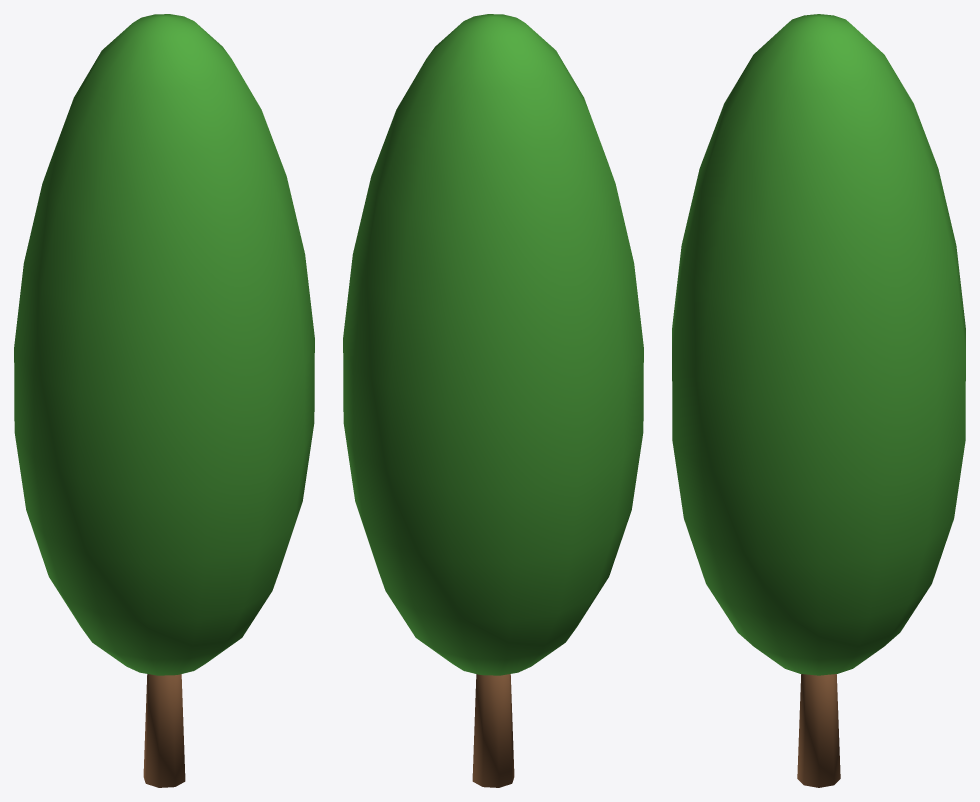
File: tree_tall.glb
3 views of the same model, side by side, from view 1: azimuth 30°, elevation 25°; view 2: azimuth 150°, elevation 25°; view 3: azimuth 270°, elevation 25° (orthographic).
Parts seen in each view (by area): view 1: Tree_Tall_Canopy, Tree_Tall_Trunk; view 2: Tree_Tall_Canopy, Tree_Tall_Trunk; view 3: Tree_Tall_Canopy, Tree_Tall_Trunk.
Part boxes in pixels (x1,y1,x2,y2): Tree_Tall_Canopy: (14, 14, 314, 675); Tree_Tall_Trunk: (143, 674, 185, 787); Tree_Tall_Canopy: (343, 14, 643, 675); Tree_Tall_Trunk: (472, 674, 514, 787); Tree_Tall_Canopy: (672, 14, 965, 675); Tree_Tall_Trunk: (797, 674, 840, 787).
Bounding box in the file's own units: 2.22 × 6.2 × 2.17.
